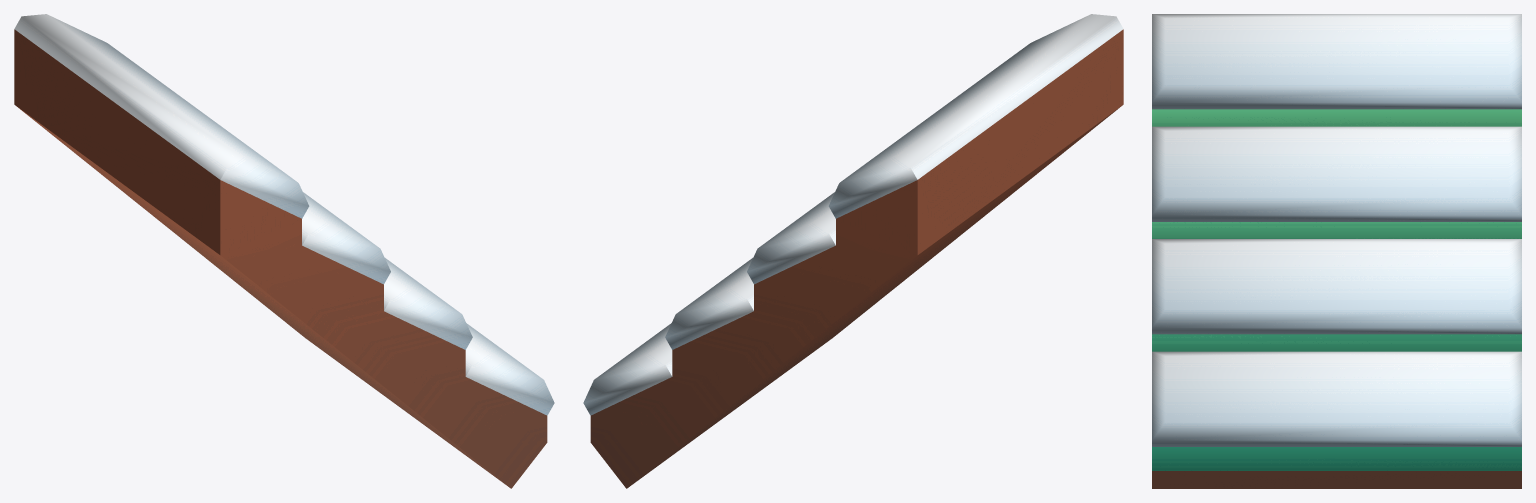
The model's file is cabin-roof-snow.glb.
The picture shows the model from 3 angles, left to right: view 1: azimuth 30°, elevation 25°; view 2: azimuth 150°, elevation 25°; view 3: azimuth 270°, elevation 25°; orthographic projection. The views are drawn at different scales.
Visible parts, largest first — view 1: cabin-roof-snow; view 2: cabin-roof-snow; view 3: cabin-roof-snow.
Part boxes in pixels (x1=…): cabin-roof-snow: x1=14, y1=14, x2=554, y2=488; cabin-roof-snow: x1=583, y1=14, x2=1123, y2=488; cabin-roof-snow: x1=1152, y1=14, x2=1521, y2=488.
Bounding box in the file's own units: 3.93 × 4.43 × 4.2.
Materials: 1 (1 with a texture image).
